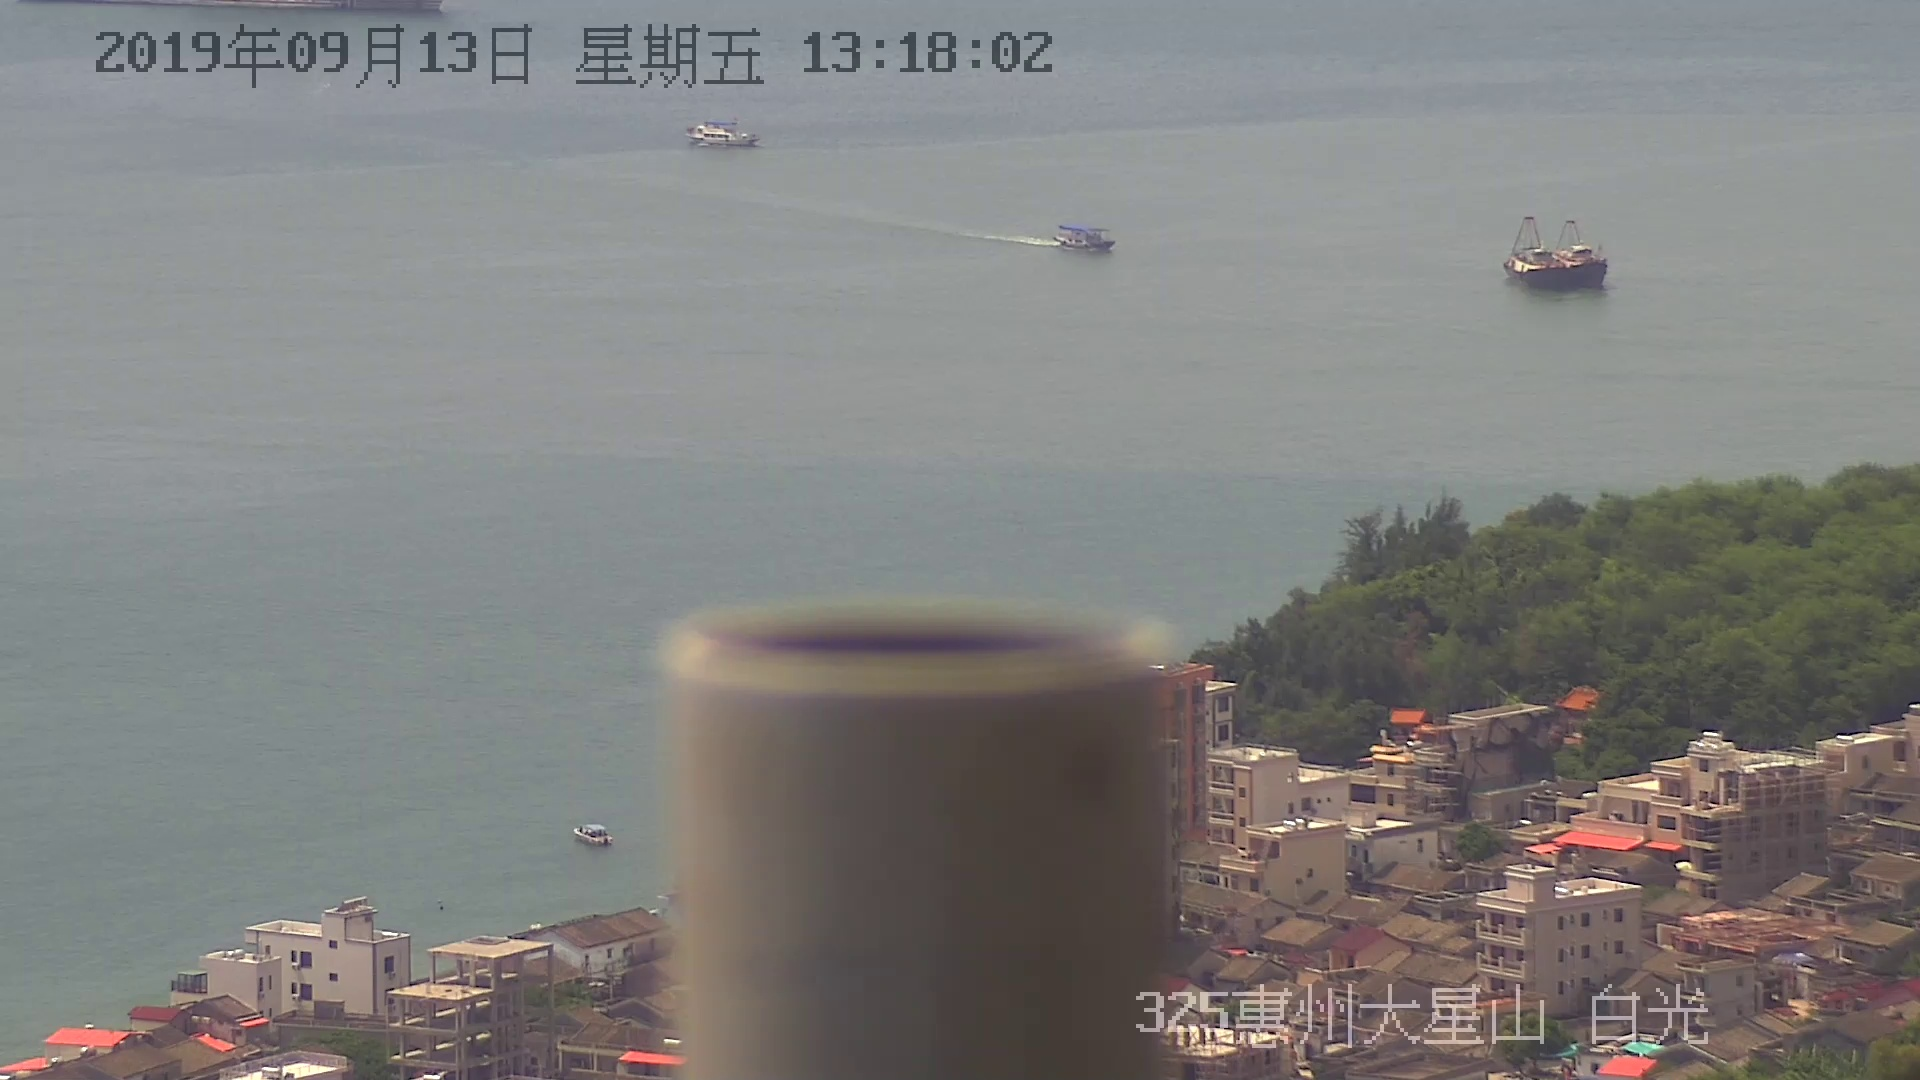ship: (1505, 218, 1614, 289), (687, 123, 760, 148), (571, 812, 611, 853), (1056, 225, 1117, 252)
